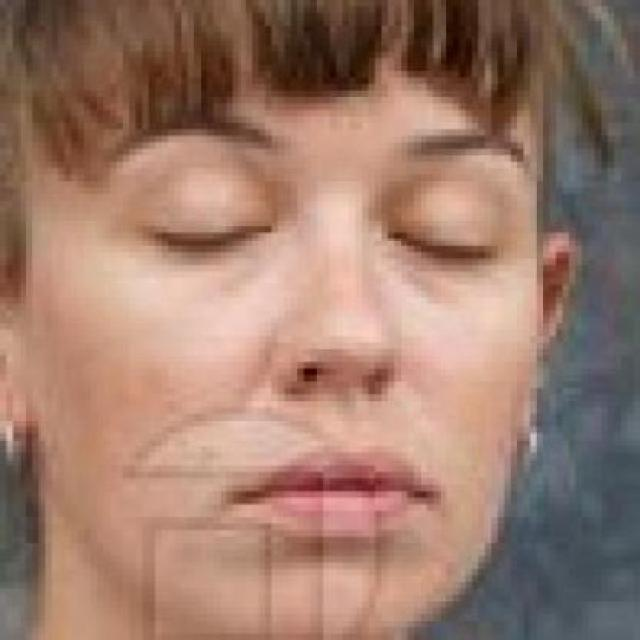drowsy: (137, 202, 271, 261), (380, 221, 498, 282)
